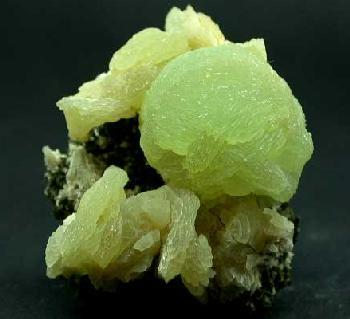prehnite: (47, 7, 314, 298)
